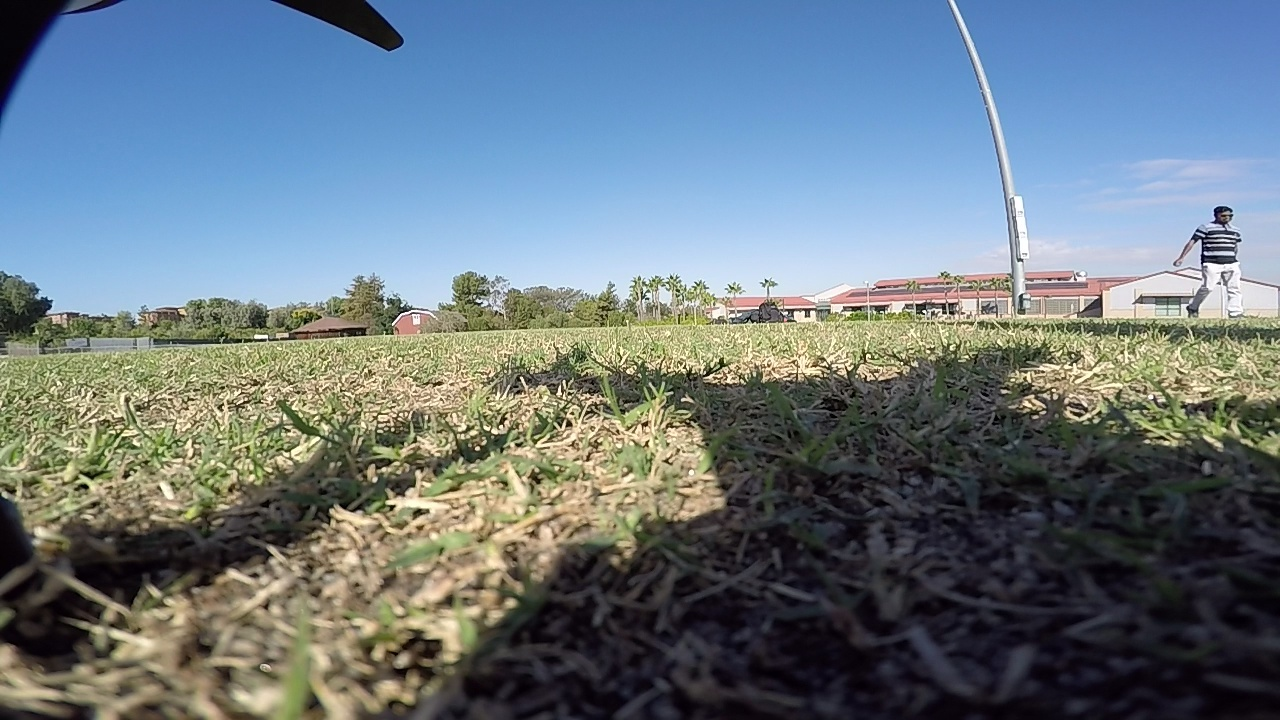person: (1176, 192, 1244, 315)
